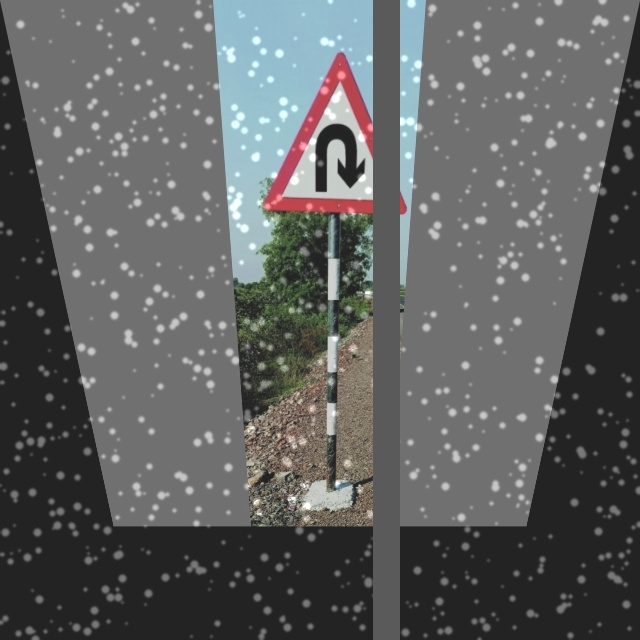Right_Hair_Pin_Bend: (267, 50, 413, 216)
